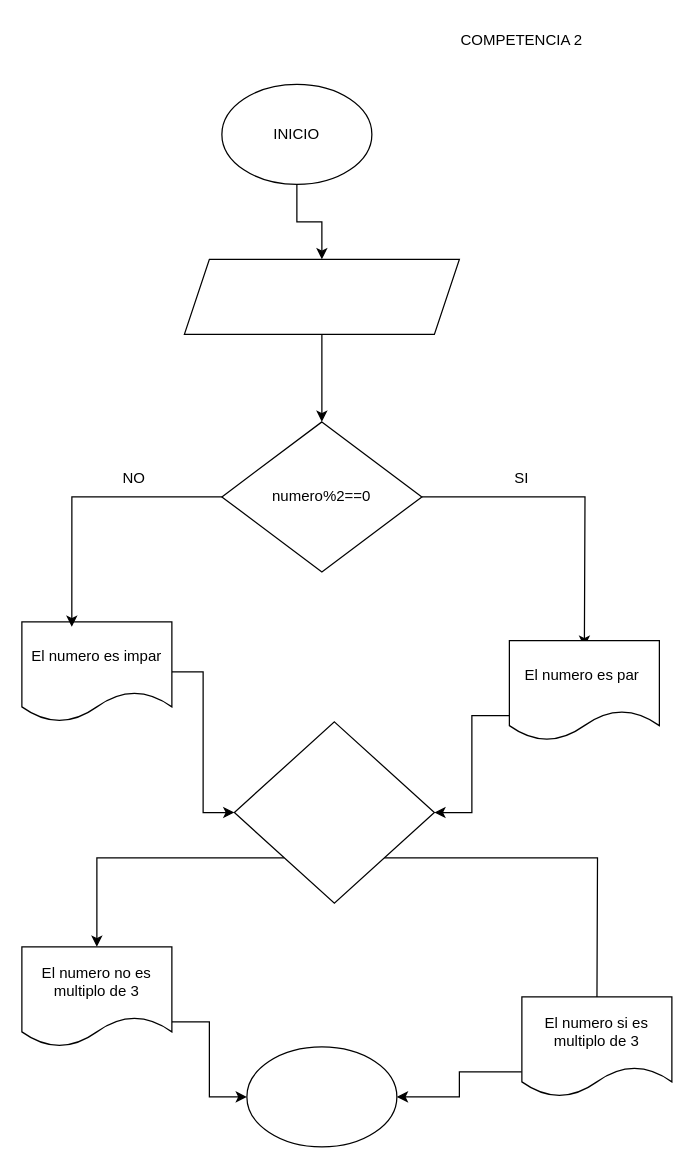
The diagram is 694 pixels wide and 1169 high, and some of its shapes have lost their labels. The centre of each missing label's shape, as x and y in pixels:
"FIN" belongs at (321,1096).
"Ingresar un numero entero" belongs at (321,296).
"numero%3==0" belongs at (333,812).
